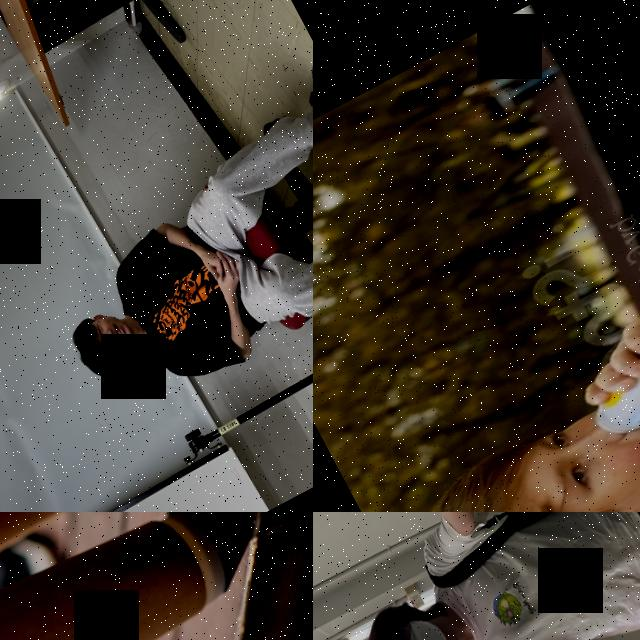can: (572, 298, 640, 445)
cup: (0, 512, 251, 640), (0, 512, 124, 640)
